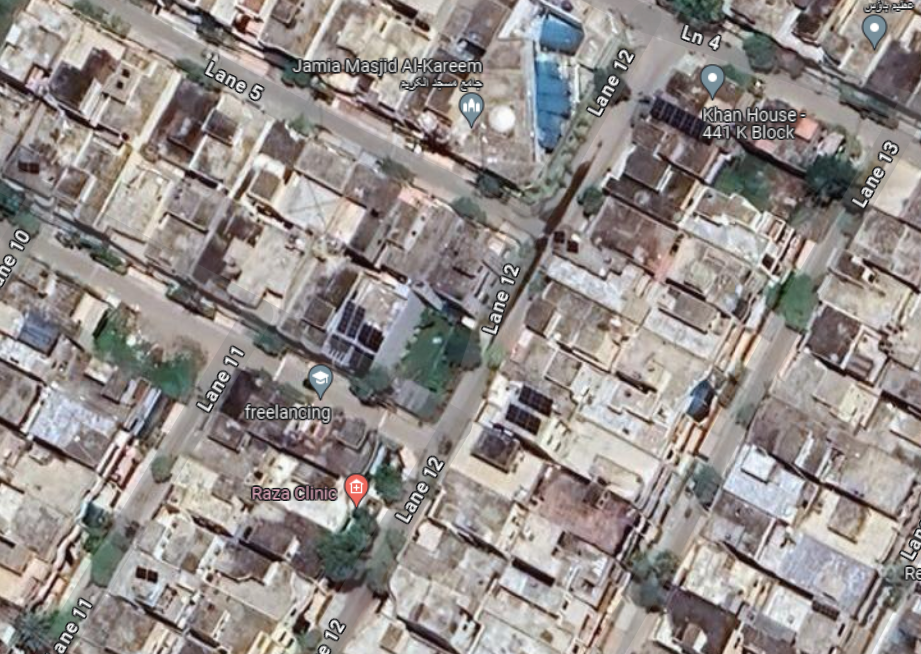solar-panel: (324, 294, 380, 373), (652, 97, 714, 138), (508, 377, 552, 430)
